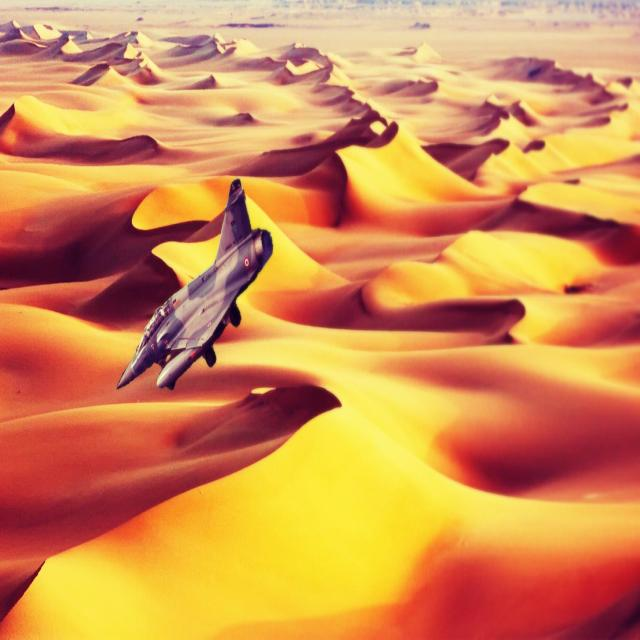airplane: (116, 177, 273, 391)
